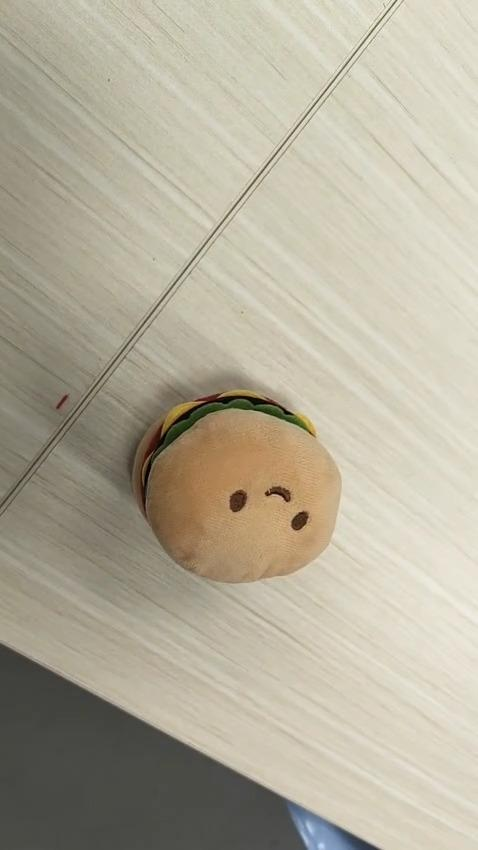hamburger: (130, 387, 342, 584)
